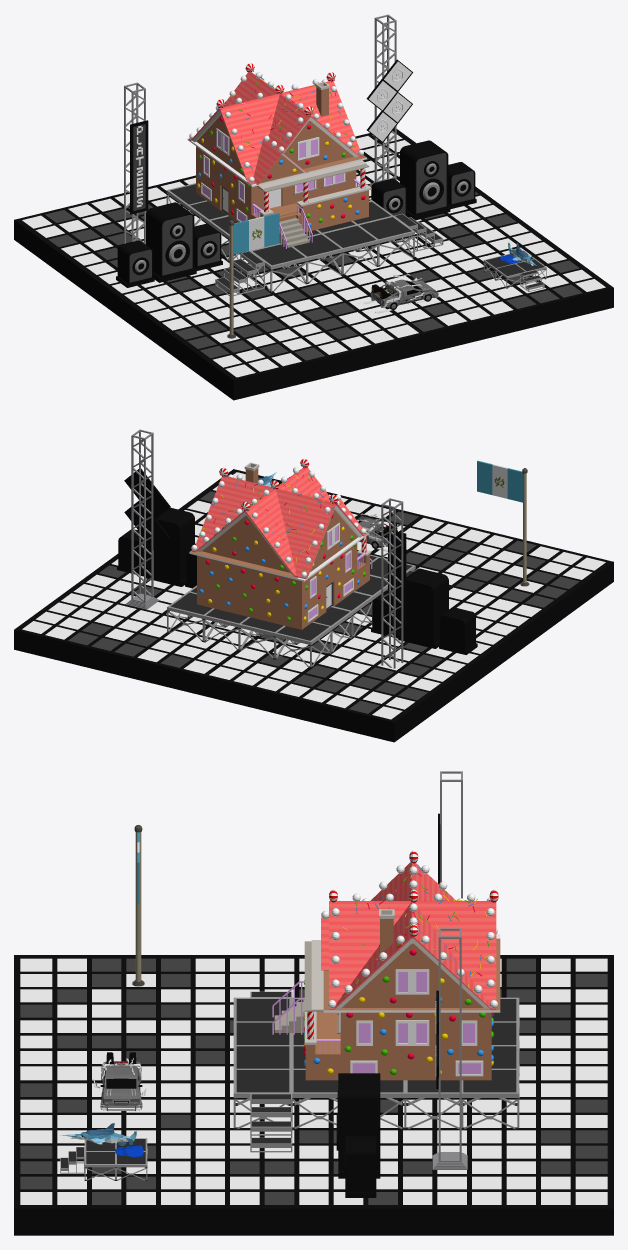
The picture shows the model from 3 angles, top to bottom: view 1: azimuth 30°, elevation 25°; view 2: azimuth 150°, elevation 25°; view 3: azimuth 270°, elevation 25°; orthographic projection. The views are drawn at different scales.
Parts seen in each view (by area): view 1: Cube.008, Cube.1203, OBJRANDOM_GUATEMALAN_FLAG, VEHICLES_DELOREAN; view 2: Cube.008, Cube.1203, OBJRANDOM_GUATEMALAN_FLAG, VEHICLES_DELOREAN; view 3: Cube.008, Cube.1203, VEHICLES_DELOREAN, OBJRANDOM_GUATEMALAN_FLAG, ANIMAL_PEZ_ESPADA.
Part boxes in pixels (x1,y1,x2,y2): Cube.008: (14, 14, 613, 400); Cube.1203: (187, 63, 371, 248); OBJRANDOM_GUATEMALAN_FLAG: (227, 212, 279, 338); VEHICLES_DELOREAN: (358, 274, 438, 313); Cube.008: (14, 429, 613, 742); Cube.1203: (189, 459, 372, 629); OBJRANDOM_GUATEMALAN_FLAG: (477, 460, 529, 586); VEHICLES_DELOREAN: (357, 513, 408, 551); Cube.008: (14, 771, 613, 1235); Cube.1203: (272, 850, 500, 1080); VEHICLES_DELOREAN: (92, 1052, 146, 1110); OBJRANDOM_GUATEMALAN_FLAG: (132, 825, 144, 986); ANIMAL_PEZ_ESPADA: (60, 1123, 143, 1157).
Bounding box in the file's own units: 4000 × 1972 × 4000.
Materials: 57 (2 with a texture image).
